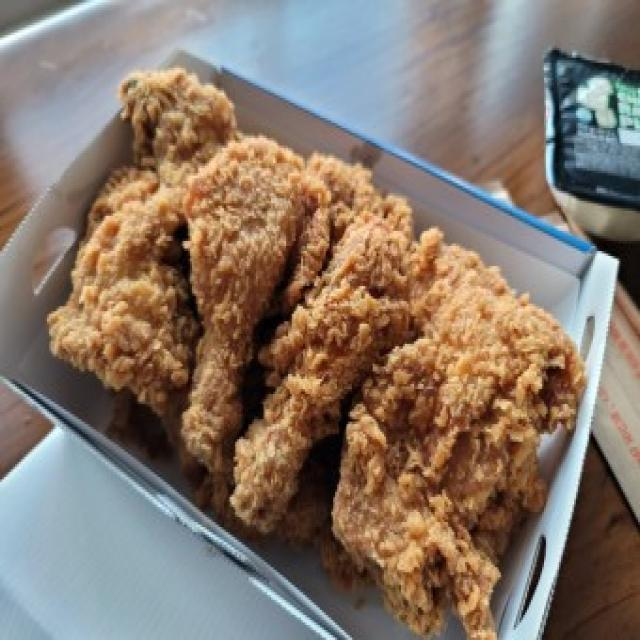Frango: (58, 56, 558, 640)
